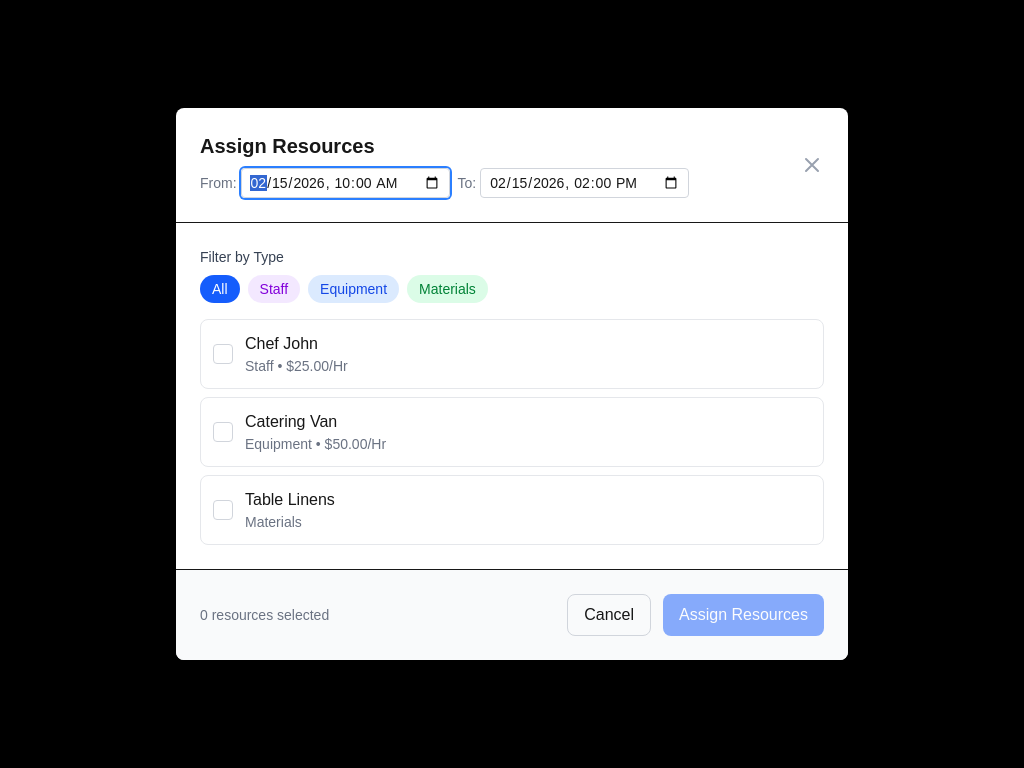
Scenario: ResourceAssignmentDialog › shows selected count when resources are selected
This screenshot has width=1024, height=768.
# Click on first resource (it's a checkbox)
What coordinates should you click on to do the following:
click the checkbox labelled "Chef John staff • $25.00/hr"
I would click on:
 (281, 344)
Its box is [200,319,824,389].
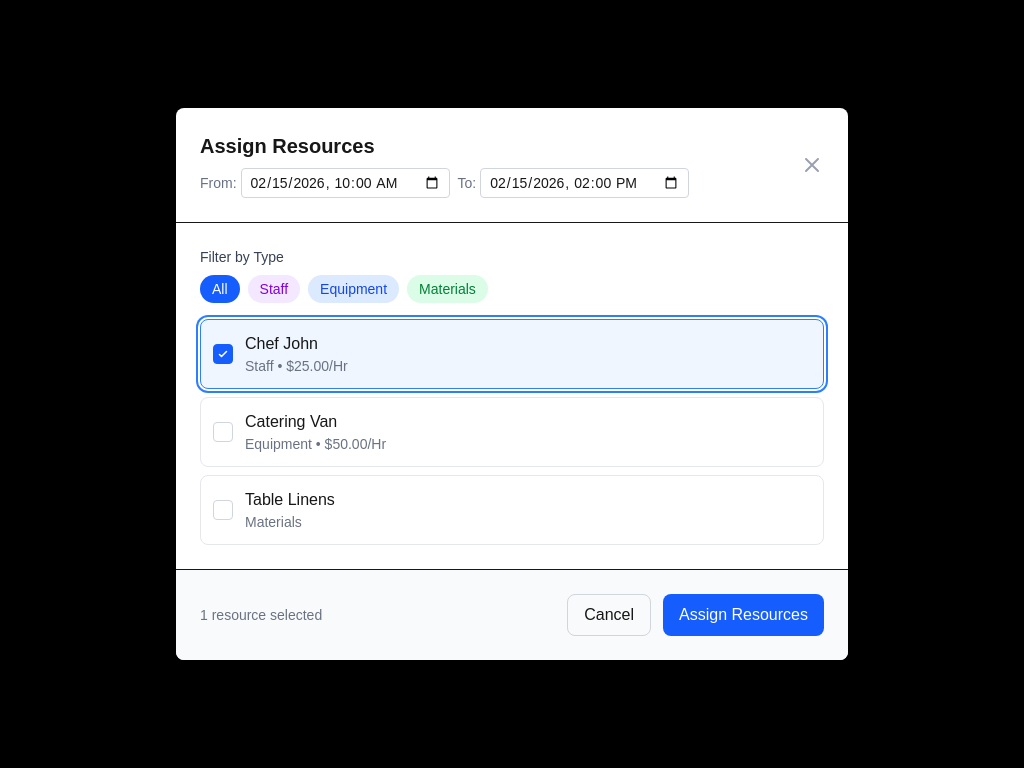
Result: the text "1 resource selected" is shown at [200,605,322,625]
